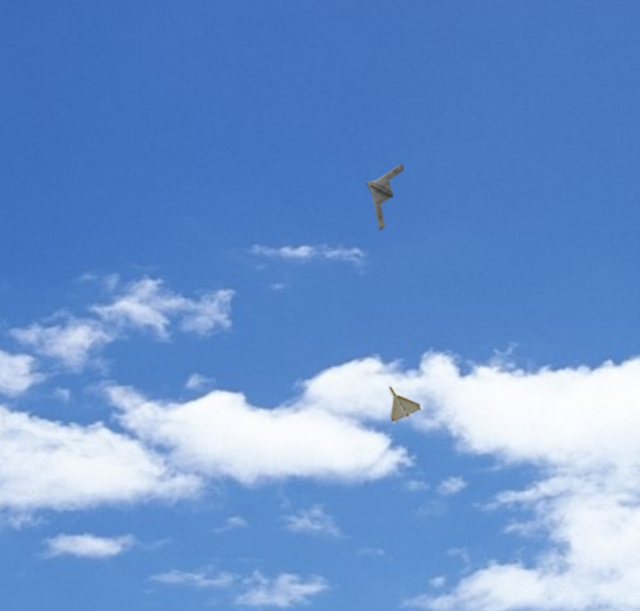military drone: (364, 162, 404, 230), (389, 386, 422, 423)
